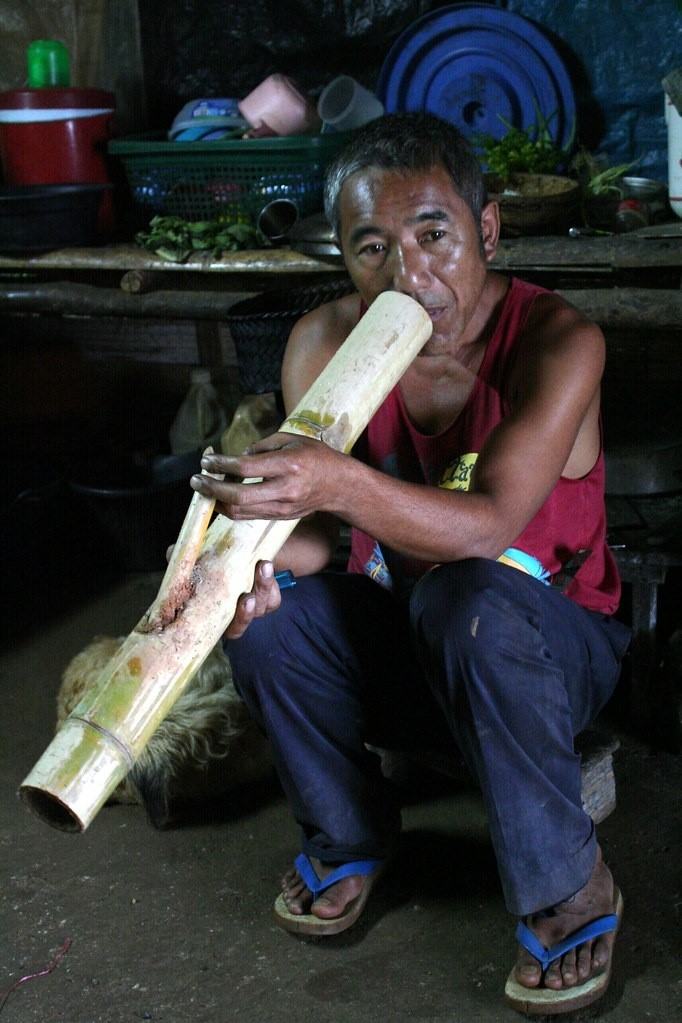face_no_mask: (326, 111, 501, 353)
